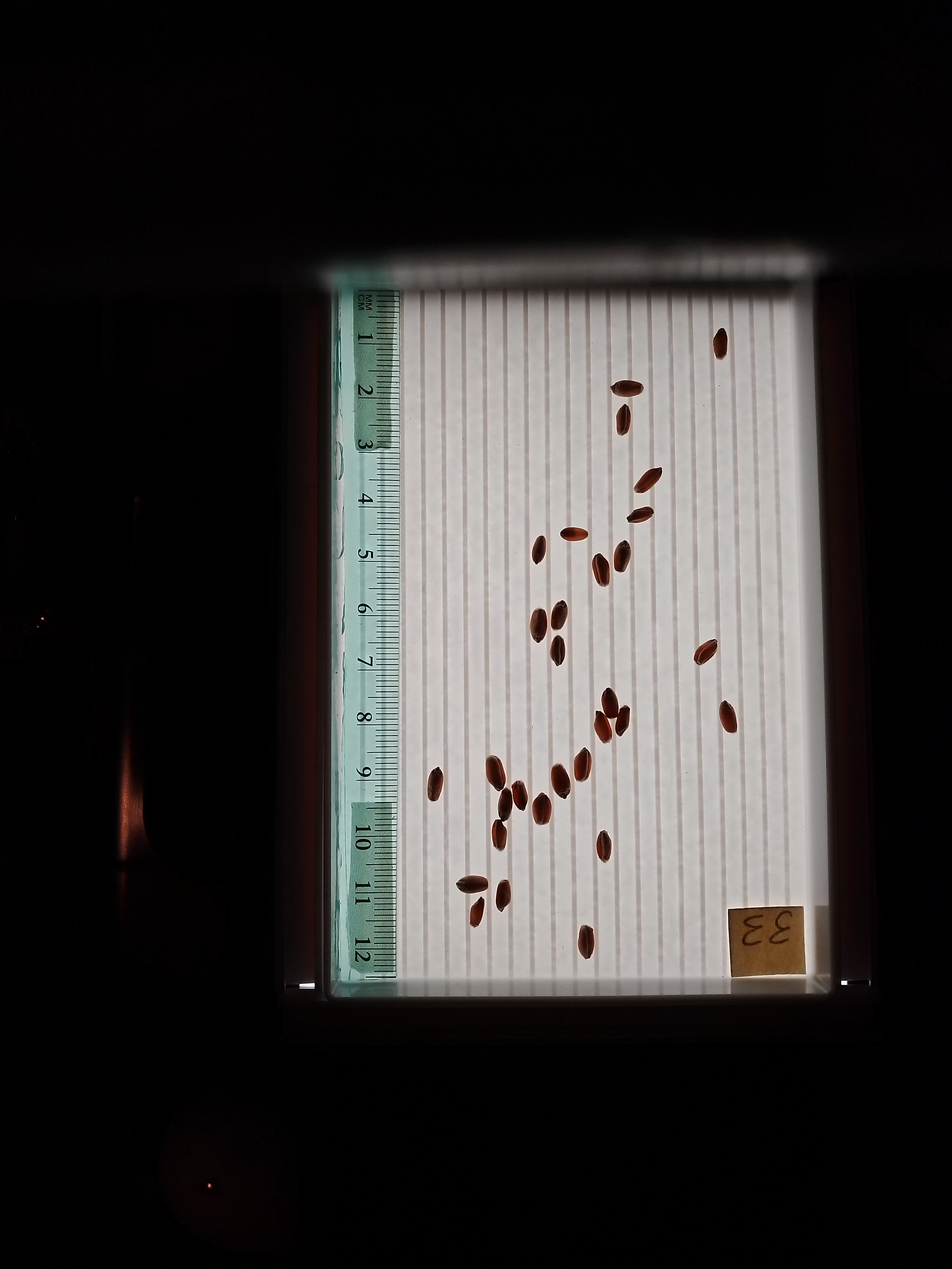seed mask: (486, 755, 506, 790), (551, 764, 571, 798), (577, 924, 595, 959), (635, 468, 661, 492), (719, 701, 738, 733), (694, 639, 717, 665), (573, 749, 591, 782), (532, 794, 551, 825), (457, 875, 488, 894), (530, 608, 547, 642), (427, 768, 444, 802), (613, 541, 631, 573), (612, 379, 643, 397), (593, 555, 610, 586), (595, 712, 612, 743), (551, 601, 567, 631), (602, 689, 618, 719), (492, 819, 507, 851), (596, 832, 612, 862), (627, 506, 653, 524), (615, 706, 630, 736), (496, 881, 511, 911), (512, 782, 528, 810), (617, 405, 631, 435), (551, 636, 565, 666), (561, 526, 587, 542), (714, 329, 728, 358), (532, 536, 546, 564), (498, 791, 512, 819), (470, 899, 484, 926)
